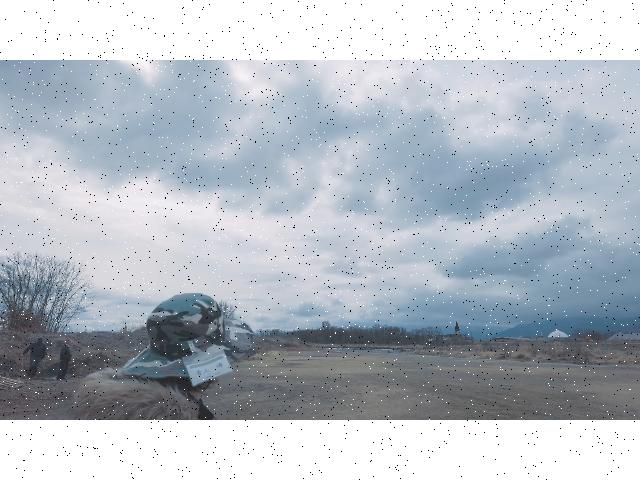Anti-Drone: (297, 276, 309, 286)
